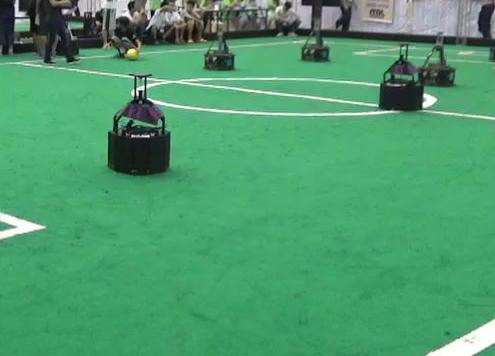robot: (104, 72, 171, 176), (379, 41, 425, 112), (418, 30, 459, 88), (202, 21, 236, 73), (302, 17, 330, 62)
